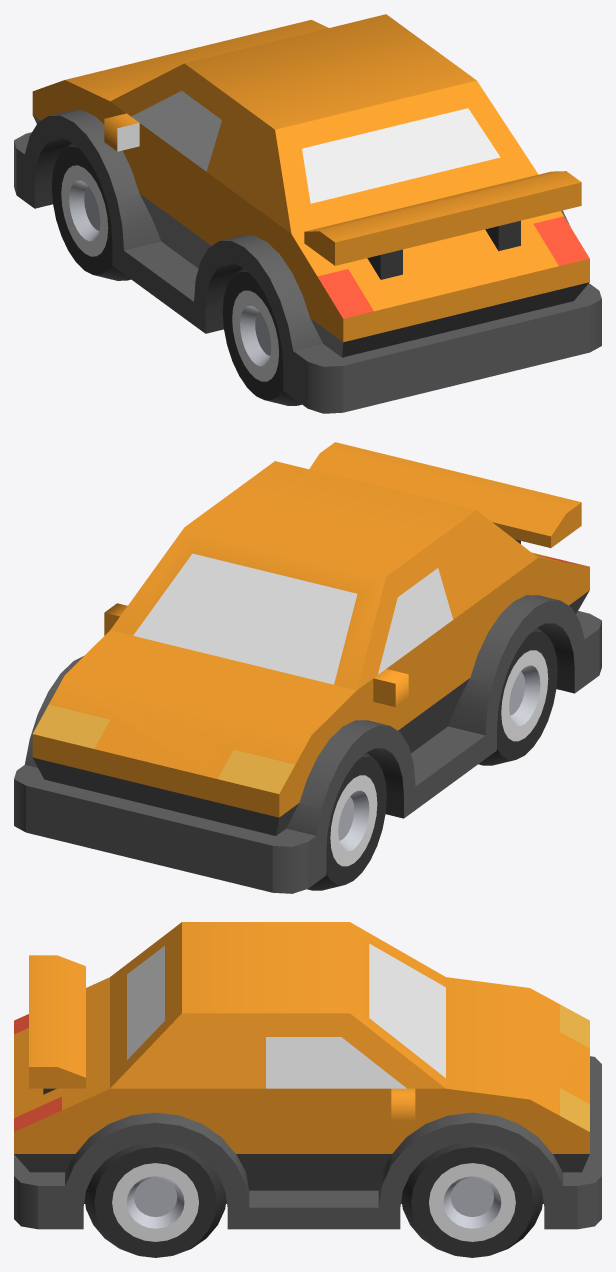
The model's file is sedanSportsOrange.glb.
3 views of the same model, one above another, from view 1: azimuth 30°, elevation 25°; view 2: azimuth 150°, elevation 25°; view 3: azimuth 270°, elevation 25° (orthographic). The views are drawn at different scales.
Parts seen in each view (by area): view 1: body, spoiler, wheel_backLeft, wheel_frontLeft; view 2: body, spoiler, wheel_frontLeft, wheel_backLeft; view 3: body, wheel_backRight, wheel_frontRight, spoiler.
Part boxes in pixels (bbox=[...]): body: bbox=[14, 14, 601, 413]; spoiler: bbox=[304, 171, 581, 279]; wheel_backLeft: bbox=[222, 267, 301, 405]; wheel_frontLeft: bbox=[51, 142, 130, 280]; body: bbox=[14, 461, 601, 893]; spoiler: bbox=[309, 442, 581, 547]; wheel_frontLeft: bbox=[307, 752, 386, 890]; wheel_backLeft: bbox=[478, 627, 557, 765]; body: bbox=[14, 922, 601, 1229]; wheel_backRight: bbox=[84, 1142, 226, 1257]; wheel_frontRight: bbox=[401, 1142, 543, 1257]; spoiler: bbox=[29, 955, 85, 1094].
Size of the model in its own units: 1.3 by 1.1 by 2.45.
